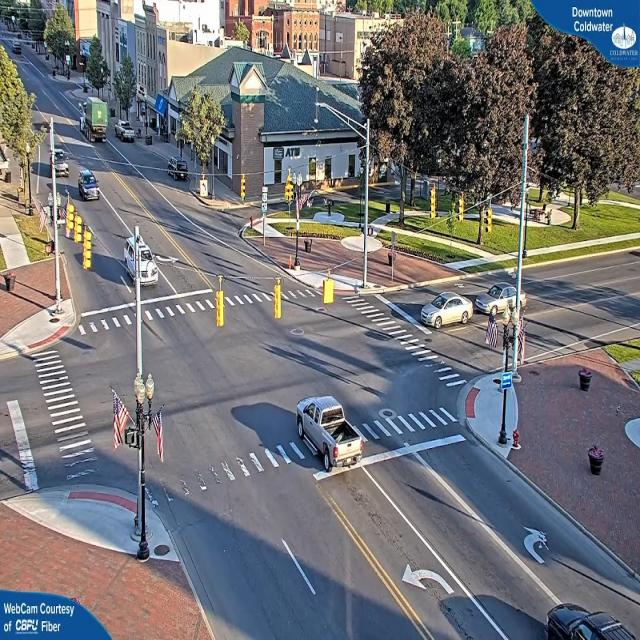car: (297, 397, 359, 472), (542, 606, 638, 638), (422, 290, 471, 330), (476, 278, 527, 316), (125, 238, 157, 290), (78, 170, 102, 202), (165, 158, 190, 180), (117, 122, 137, 142), (53, 150, 69, 174)
